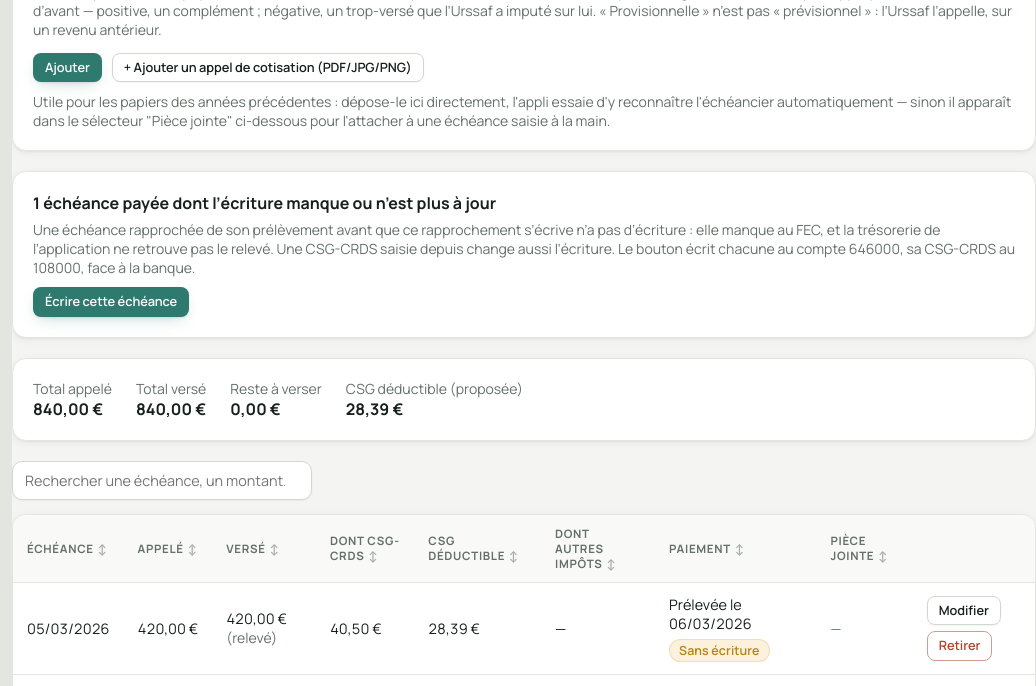
Test: CotisationsTab — écrire les échéances payées › écrit celles qui n’ont pas leur écriture, en trésorerie avec la CSG-CRDS au 108000
(page scrolled)
Check: the text "1 échéance payée dont l’écriture manque ou n’est plus à jour" is shown, box [33,192,496,214]
What coordinates should you click on to do the following:
click the button "Écrire cette échéance"
I would click on:
 (111, 302)
Its box is [33,287,189,317].
(page scrolled)
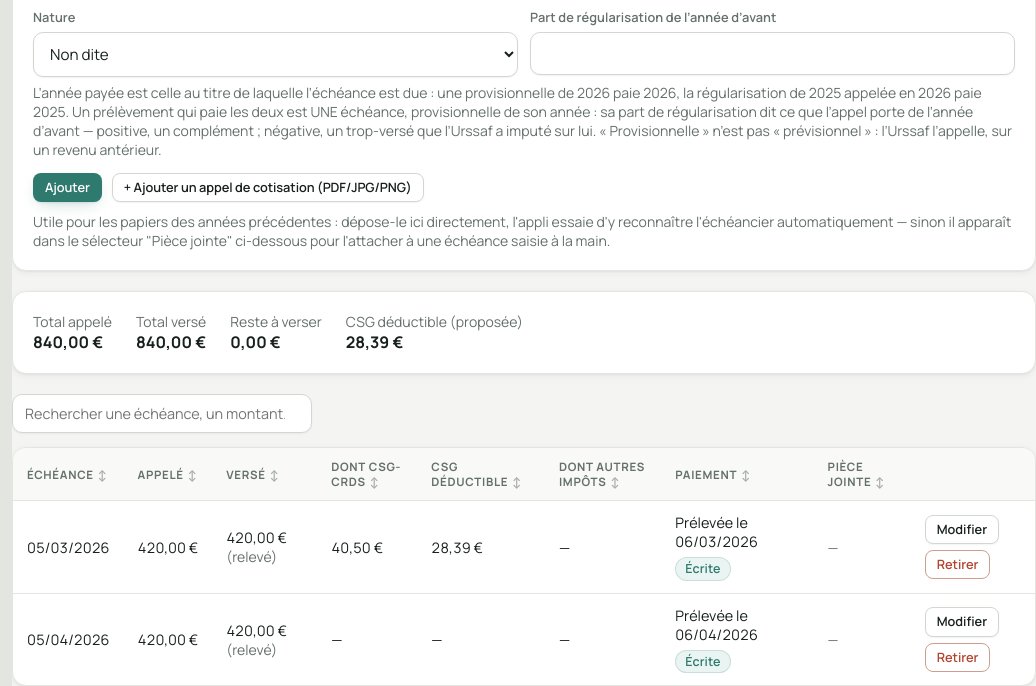
Check: the text "Écrite" is shown 2 times, box [675,557,730,581]; [675,650,730,673]
Check: the text "dont l’écriture manque" is gone
